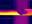Hotspot: (0, 11, 20, 15)
